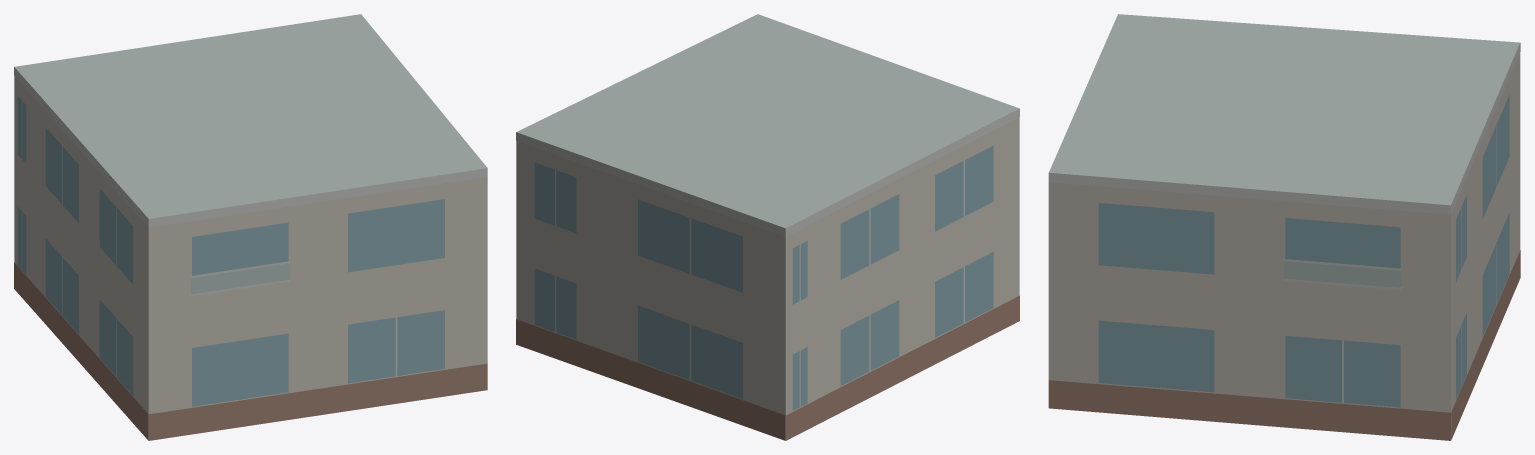
The model's file is survey-upis-32654058.glb.
The picture shows the model from 3 angles, left to right: view 1: azimuth 30°, elevation 25°; view 2: azimuth 150°, elevation 25°; view 3: azimuth 270°, elevation 25°; orthographic projection. The views are drawn at different scales.
Parts seen in each view (by area): view 1: survey-upis-32654058.tmp; view 2: survey-upis-32654058.tmp; view 3: survey-upis-32654058.tmp.
Boxes of the visible parts, <box> form: survey-upis-32654058.tmp: <box>14,14,487,440</box>; survey-upis-32654058.tmp: <box>516,14,1019,440</box>; survey-upis-32654058.tmp: <box>1048,14,1520,440</box>.
Bounding box in the file's own units: 10.63 × 6.1 × 11.08.
